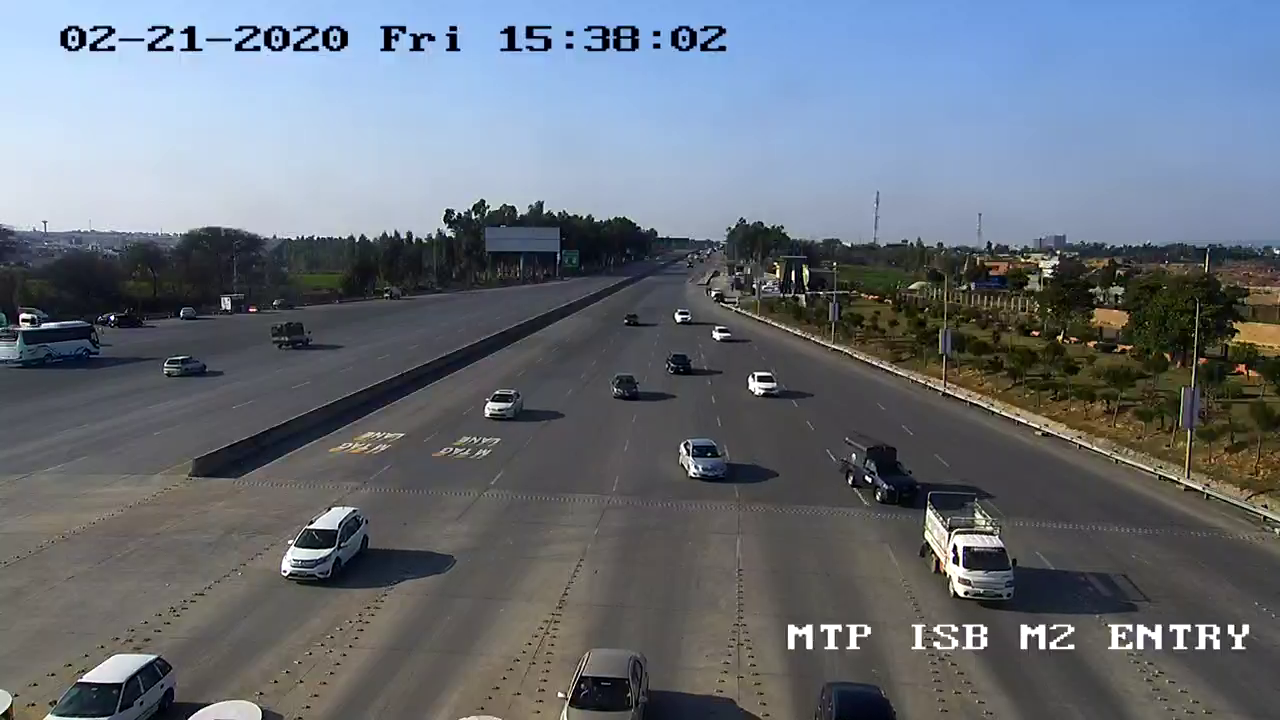f1: (260, 502, 385, 599), (823, 420, 920, 509), (665, 431, 738, 491), (472, 378, 529, 426), (739, 363, 789, 411), (595, 361, 645, 408)
f3: (905, 483, 1031, 615)
